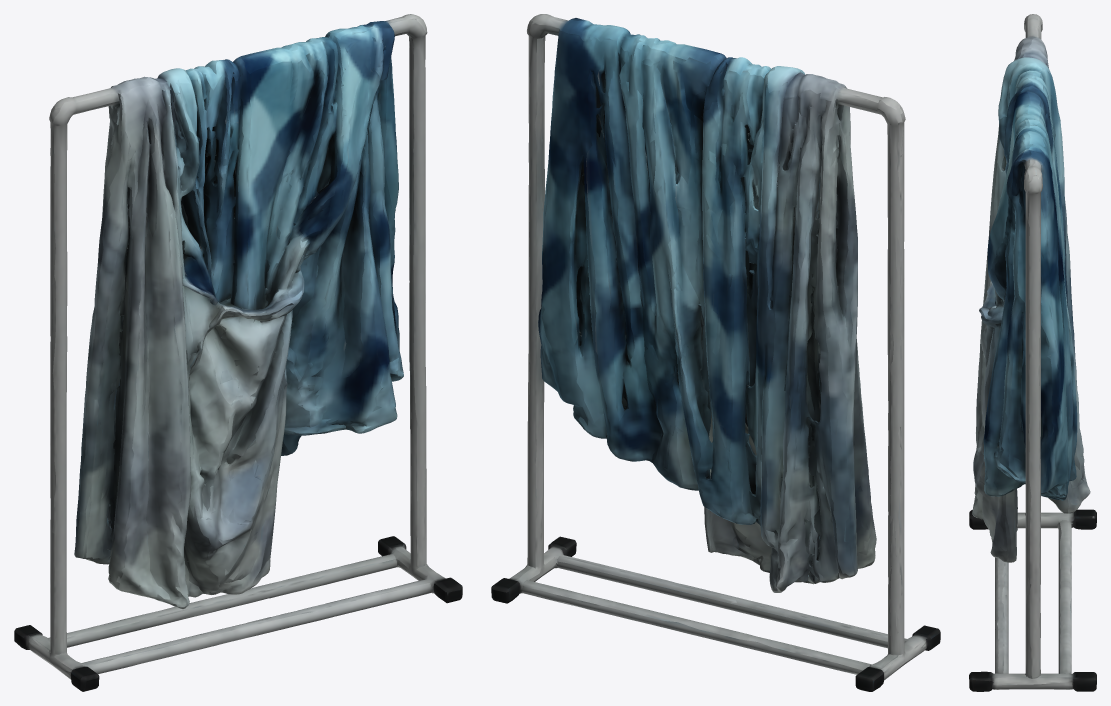
Rendered from item_9c80f0b3.glb.
The picture shows the model from 3 angles, left to right: view 1: azimuth 30°, elevation 25°; view 2: azimuth 150°, elevation 25°; view 3: azimuth 270°, elevation 25°; orthographic projection. The views are drawn at different scales.
Visible parts, largest first — view 1: world; view 2: world; view 3: world.
Part boxes in pixels (<box>): world: <box>14,14,462,691</box>; world: <box>491,14,940,691</box>; world: <box>969,14,1096,691</box>.
Bounding box in the file's own units: 6.3 × 8.96 × 2.
1 material, 1 textured.
